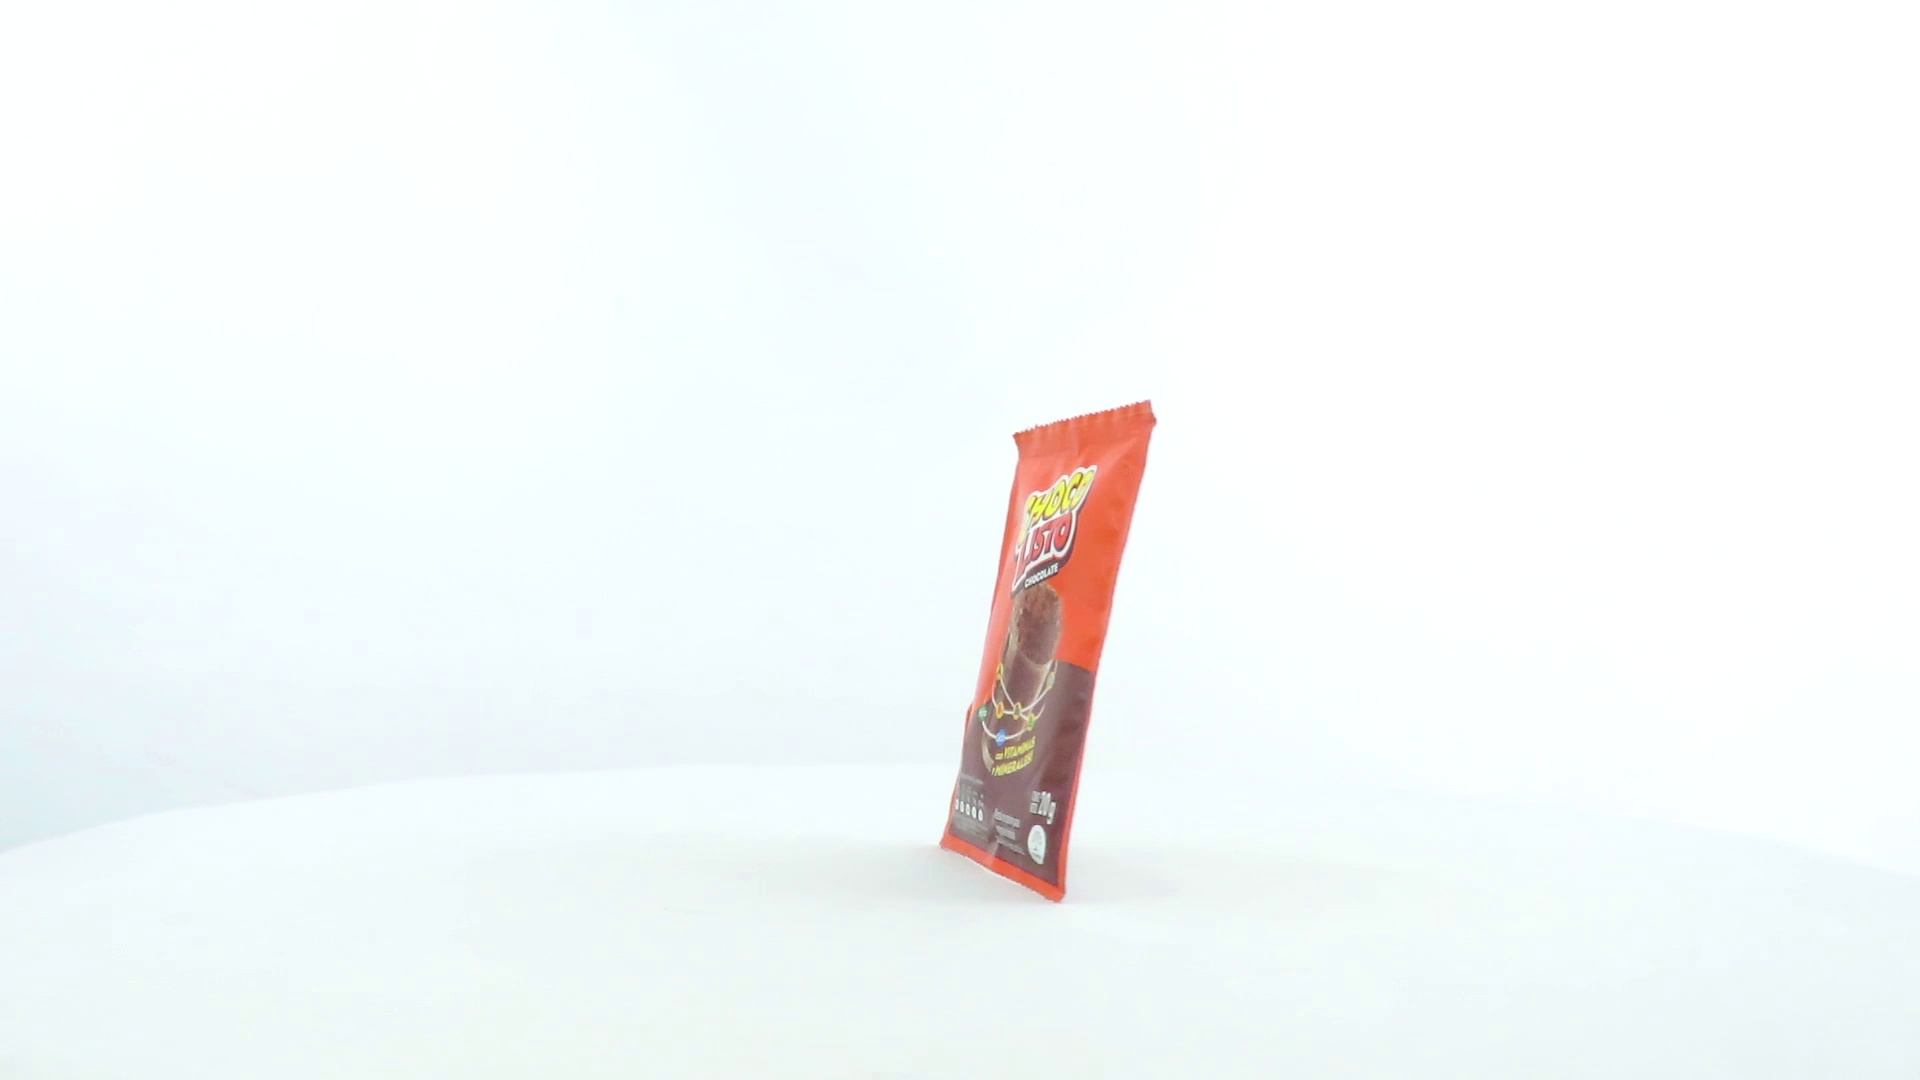COL0170103SOB02000: (934, 394, 1163, 913)
